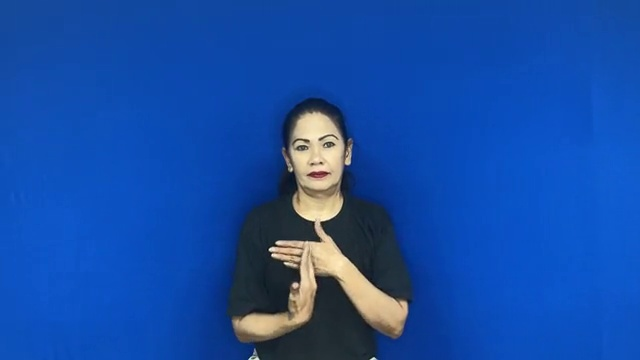bread: (261, 212, 365, 326)
